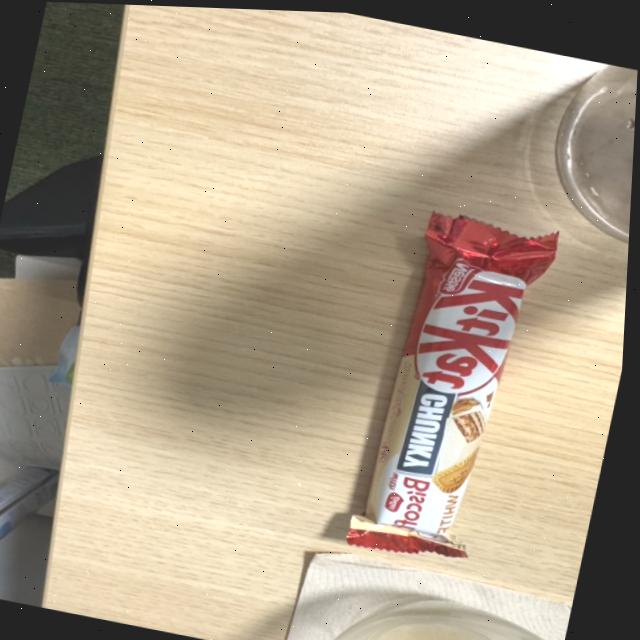chocolate: (339, 192, 572, 575)
